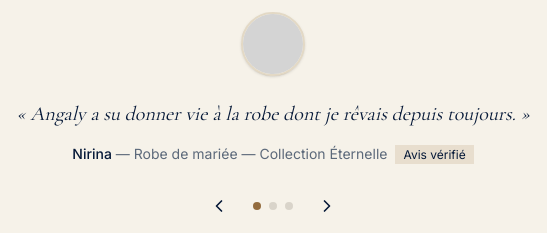
Test case: TestimonialsCarousel › navigates via a left-to-right swipe (previous)
Expected: the text "Nirina" is shown, [72,145,112,162]
Press the mouse on the text "Nirina" at (273, 114), box [16,12,530,216]
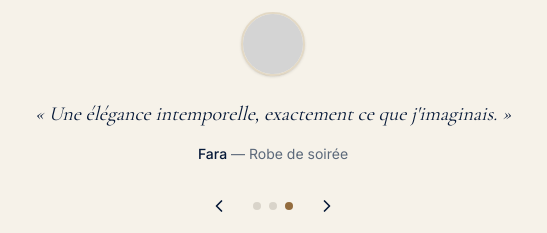
Expected: the text "Fara" is shown, [198,145,227,162]
